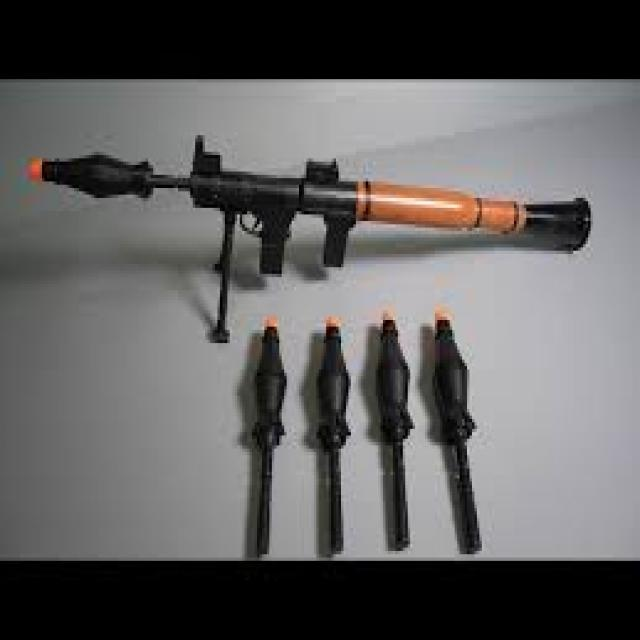Gun: (23, 101, 606, 338)
